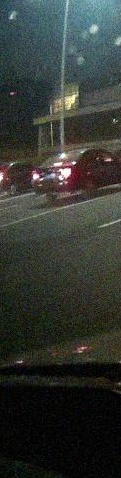L_light: (32, 172, 42, 180)
R_light: (60, 168, 71, 177)
T_light: (53, 162, 62, 166)
night-brake: (31, 148, 83, 201)
